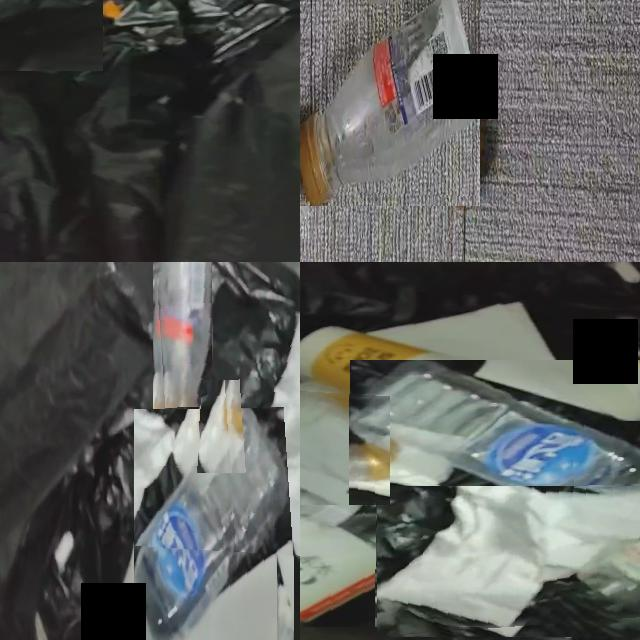bottle: (350, 360, 640, 516), (300, 0, 479, 206), (134, 409, 274, 639), (300, 502, 496, 622), (158, 262, 212, 433)
dixie_cup: (300, 327, 473, 420)
paper: (377, 486, 640, 630), (371, 302, 564, 408), (227, 313, 300, 585), (241, 327, 300, 559), (102, 544, 243, 640), (103, 546, 237, 640), (300, 390, 390, 505), (571, 422, 640, 487), (201, 380, 234, 473)
